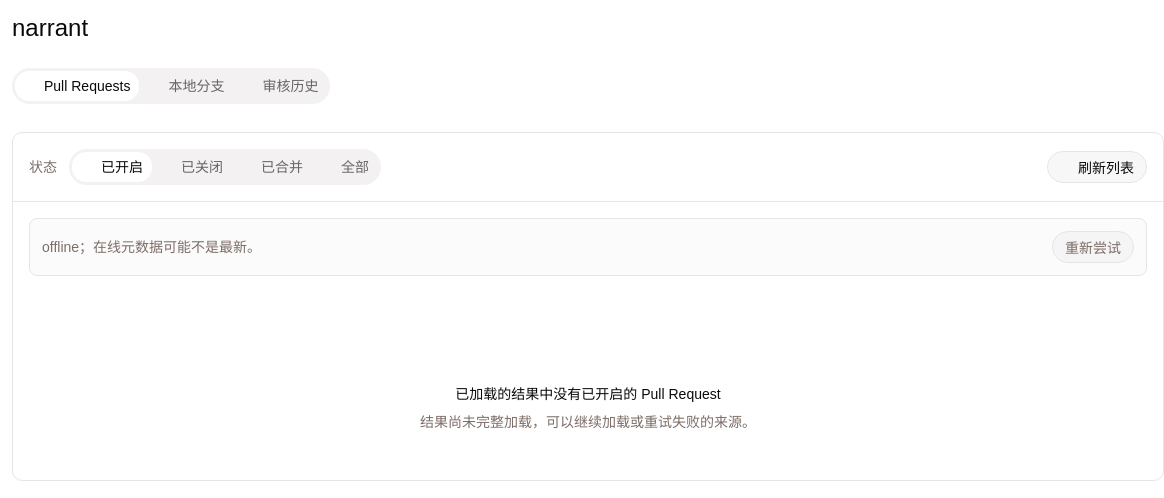
RepositoryOverview › 筛选空结果保留离线提示和状态入口，切换 All 后可继续已有 Review
This screenshot has width=1164, height=498.
Expected: the text "已加载的结果中没有已开启的 Pull Request" is shown, [455,384,721,404]
Expected: the text "结果尚未完整加载，可以继续加载或重试失败的来源。" is shown, [420,412,756,432]
Click the tab "全部" at (345, 167), box [312,152,378,182]
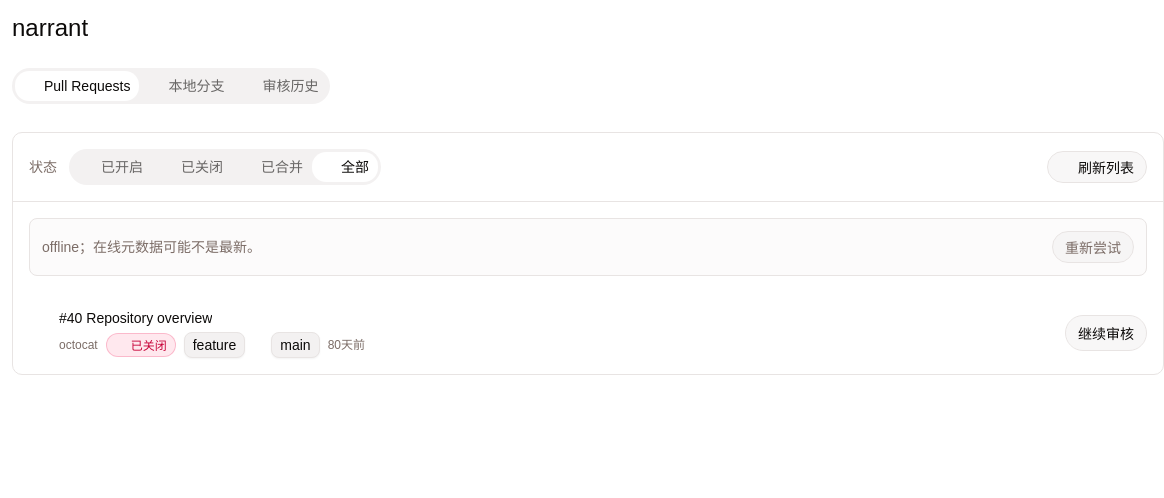
Expected: the button "继续审核" is shown, [1065,315,1147,351]
